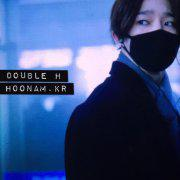OK: (119, 10, 178, 69)
